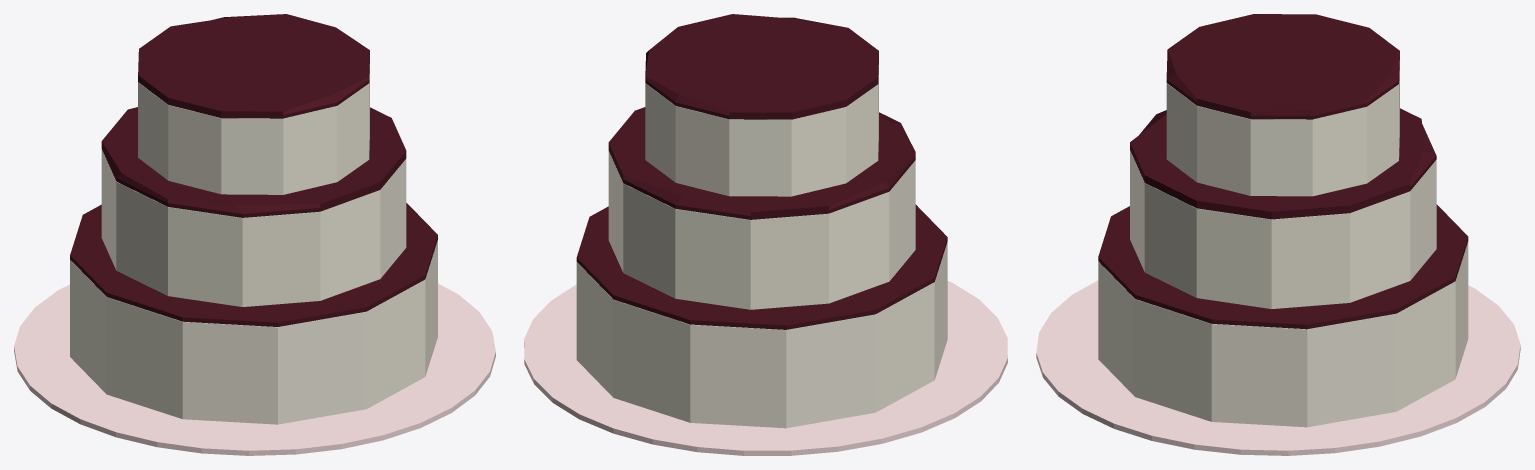
Rendered from triplelayer.glb.
3 views of the same model, side by side, from view 1: azimuth 30°, elevation 25°; view 2: azimuth 150°, elevation 25°; view 3: azimuth 270°, elevation 25° (orthographic).
Visible parts, largest first — view 1: layer 3 lowest, layer 2 lowest, plate 2, layer 1 highest, layer 1 lowest, layer 3 highest, layer 2 mid, layer 2 highest, layer 1 mid; view 2: layer 3 lowest, layer 2 lowest, plate 2, layer 1 highest, layer 1 lowest, layer 3 highest, layer 2 mid, layer 2 highest, layer 1 mid; view 3: layer 3 lowest, layer 2 lowest, plate 2, layer 1 highest, layer 1 lowest, layer 3 highest, layer 2 mid, layer 2 highest, layer 1 mid.
Part boxes in pixels (left/top/right/bottom): layer 3 lowest: left=70, top=240, right=437, bottom=424; layer 2 lowest: left=101, top=149, right=406, bottom=306; plate 2: left=14, top=283, right=495, bottom=455; layer 1 highest: left=138, top=14, right=369, bottom=115; layer 1 lowest: left=138, top=64, right=369, bottom=194; layer 3 highest: left=70, top=203, right=437, bottom=326; layer 2 mid: left=101, top=107, right=406, bottom=213; layer 2 highest: left=101, top=145, right=406, bottom=217; layer 1 mid: left=138, top=17, right=369, bottom=118; layer 3 lowest: left=576, top=242, right=947, bottom=428; layer 2 lowest: left=608, top=151, right=915, bottom=309; plate 2: left=524, top=281, right=1007, bottom=455; layer 1 highest: left=645, top=14, right=878, bottom=116; layer 1 lowest: left=645, top=65, right=878, bottom=196; layer 3 highest: left=576, top=204, right=947, bottom=329; layer 2 mid: left=608, top=107, right=915, bottom=215; layer 2 highest: left=608, top=112, right=915, bottom=219; layer 1 mid: left=645, top=17, right=878, bottom=119; layer 3 lowest: left=1098, top=241, right=1468, bottom=427; layer 2 lowest: left=1130, top=150, right=1436, bottom=308; plate 2: left=1036, top=280, right=1520, bottom=455; layer 1 highest: left=1166, top=14, right=1399, bottom=115; layer 1 lowest: left=1166, top=61, right=1399, bottom=196; layer 3 highest: left=1098, top=204, right=1468, bottom=329; layer 2 mid: left=1130, top=108, right=1435, bottom=215; layer 2 highest: left=1130, top=114, right=1436, bottom=219; layer 1 mid: left=1166, top=54, right=1399, bottom=119.
Bounding box in the file's own units: 1.97 × 1.31 × 1.97.
